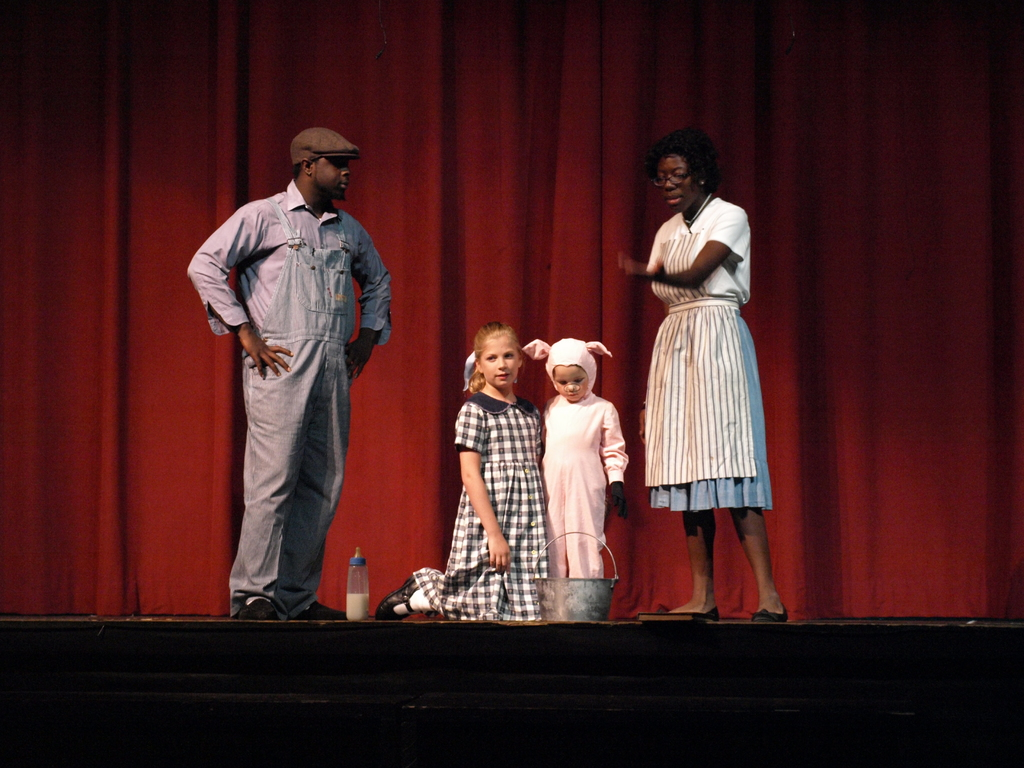Person: (373, 322, 545, 622), (521, 336, 631, 580)
